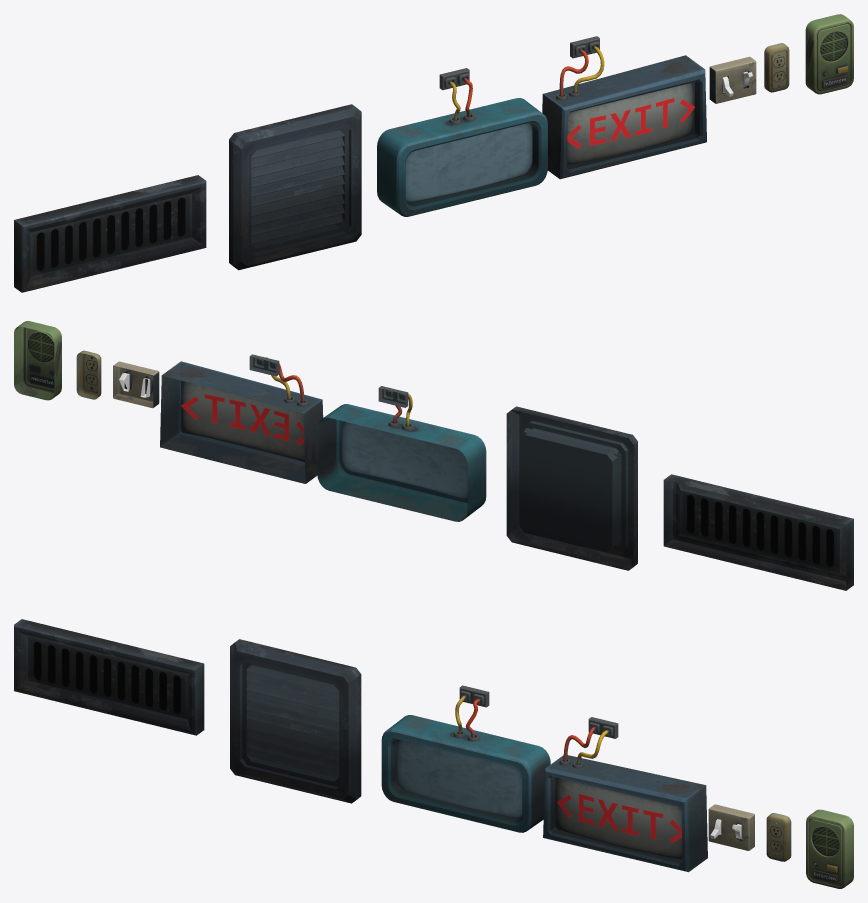
File: WallFixtures.fbx
3 views of the same model, one above another, from view 1: azimuth 30°, elevation 25°; view 2: azimuth 150°, elevation 25°; view 3: azimuth 330°, elevation 25° (orthographic).
Visible parts, largest first — view 1: SM_Vent_01, SM_Timer_01, SM_Exit_01, SM_Vent_02, SM_WallInterCom_01, SM_LightSwitch_01, SM_WallOutlet_01; view 2: SM_Vent_01, SM_Timer_01, SM_Exit_01, SM_Vent_02, SM_WallInterCom_01, SM_LightSwitch_01, SM_WallOutlet_01; view 3: SM_Vent_01, SM_Exit_01, SM_Timer_01, SM_Vent_02, SM_WallInterCom_01, SM_LightSwitch_01, SM_WallOutlet_01.
Part boxes in pixels (box(x1,y1,x2,y2)): SM_Vent_01: box(229, 104, 361, 270); SM_Timer_01: box(377, 68, 547, 216); SM_Exit_01: box(542, 36, 706, 179); SM_Vent_02: box(14, 175, 206, 292); SM_WallInterCom_01: box(805, 14, 853, 94); SM_LightSwitch_01: box(709, 56, 756, 103); SM_WallOutlet_01: box(764, 43, 789, 92); SM_Vent_01: box(506, 406, 637, 570); SM_Timer_01: box(317, 386, 486, 521); SM_Exit_01: box(160, 354, 323, 483); SM_Vent_02: box(663, 474, 853, 590); SM_WallInterCom_01: box(14, 321, 61, 400); SM_LightSwitch_01: box(113, 361, 159, 408); SM_WallOutlet_01: box(76, 350, 101, 399); SM_Vent_01: box(230, 639, 361, 803); SM_Exit_01: box(543, 717, 707, 872); SM_Timer_01: box(381, 685, 550, 832); SM_Vent_02: box(14, 619, 204, 735); SM_WallInterCom_01: box(806, 809, 853, 888); SM_LightSwitch_01: box(708, 804, 754, 850); SM_WallOutlet_01: box(766, 813, 791, 861).
Size of the model in its own units: 201 by 30.85 by 8.55.
